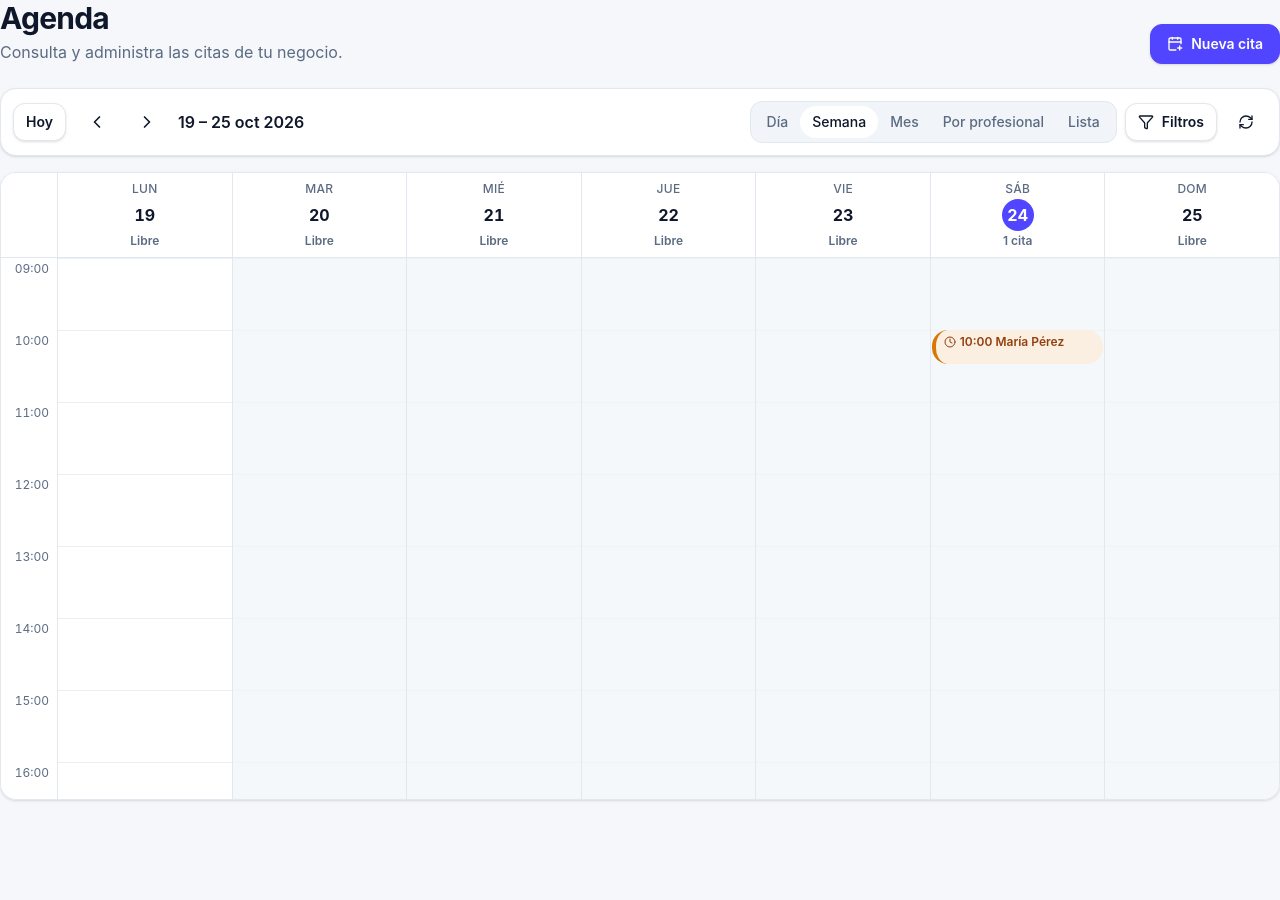
Test: CalendarPage (Agenda) › abrir una cita muestra el panel de detalle con sus datos y las acciones de su estado
(page scrolled)
Click the button "10:00 María Pérez" at (1017, 347), box [932, 330, 1103, 364]
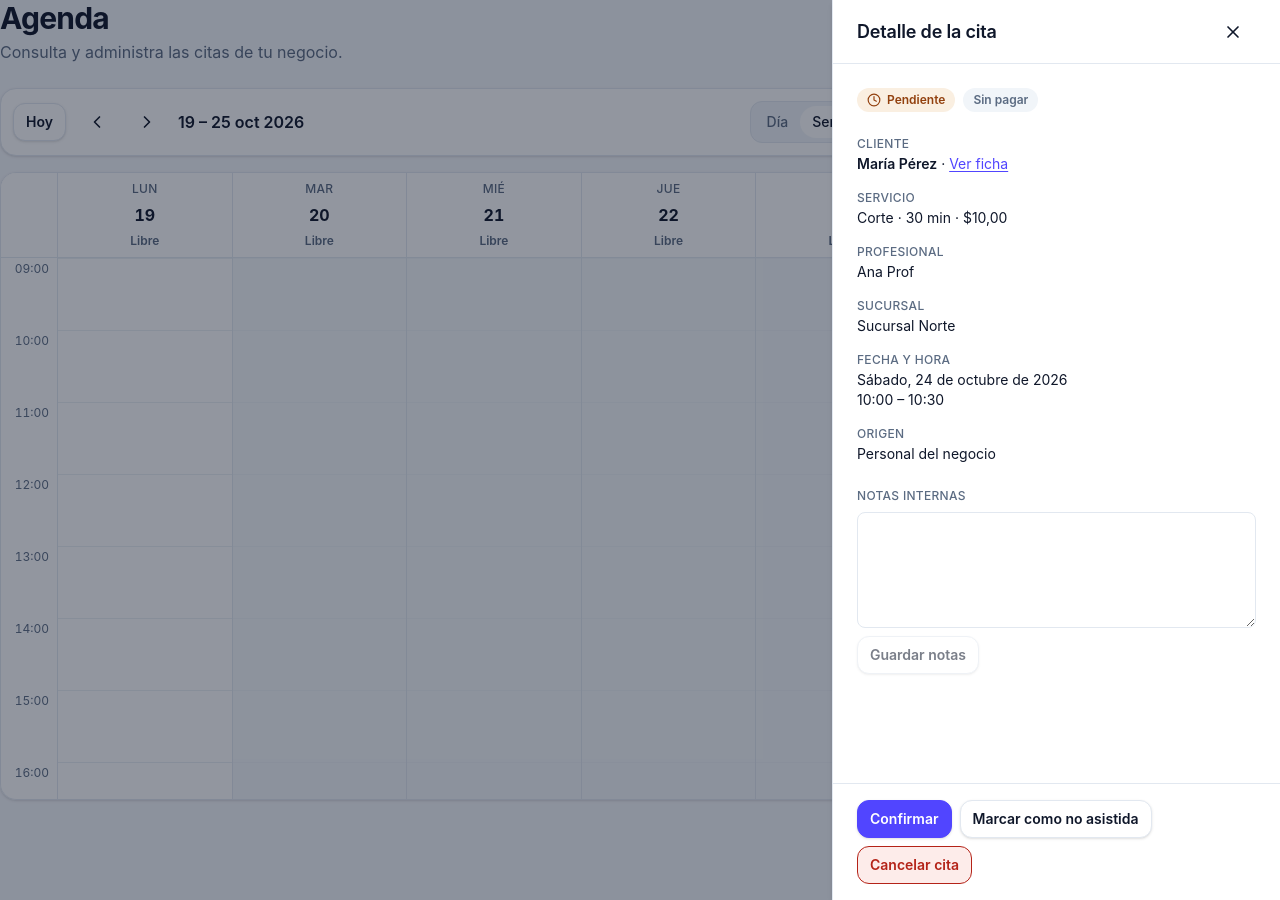
expect the text "María Pérez" is shown: met, box [857, 155, 937, 172]
expect the text "Sucursal Norte" is shown: met, box [857, 317, 955, 334]
expect the button "Confirmar" is shown: met, box [857, 800, 952, 838]
